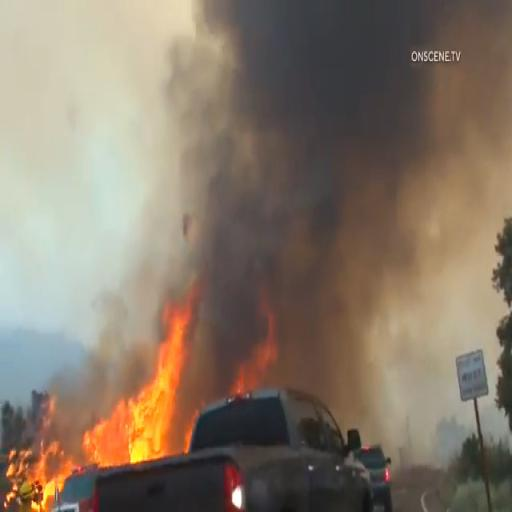fire: (90, 294, 200, 462), (11, 432, 68, 497)
smoke: (188, 3, 360, 224)
